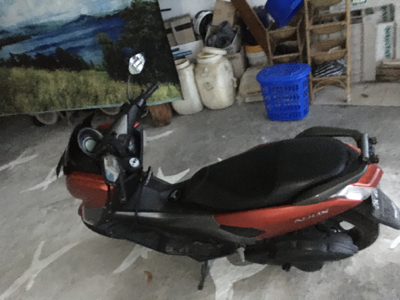moto: (59, 80, 387, 272)
